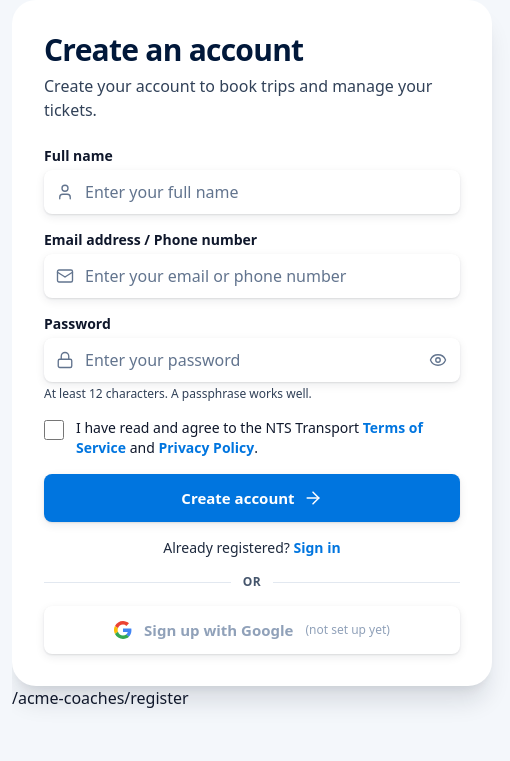
Test: Sign up with a phone number › refuses a phone number on the form when the server cannot send texts
Type "076 123 456" into the field labelled "Email address / Phone number" at point(252, 276), box [44,254,460,298]
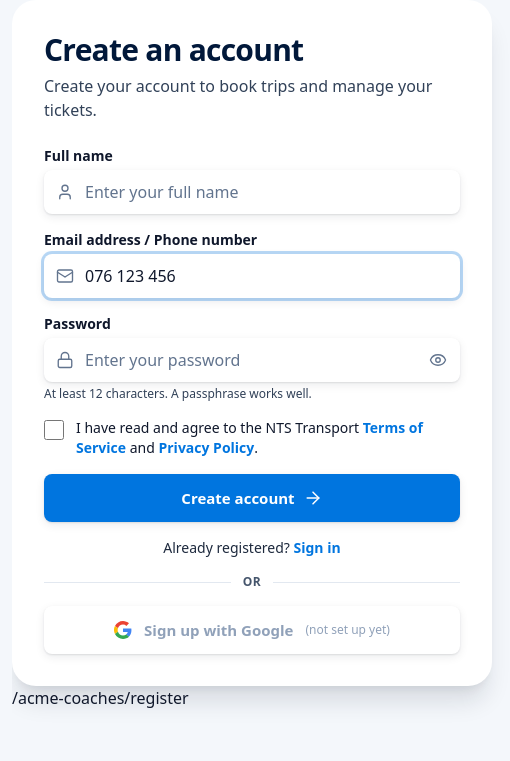
Type "Fanta" into the field labelled "Full name" at point(252, 192), box [44,170,460,214]
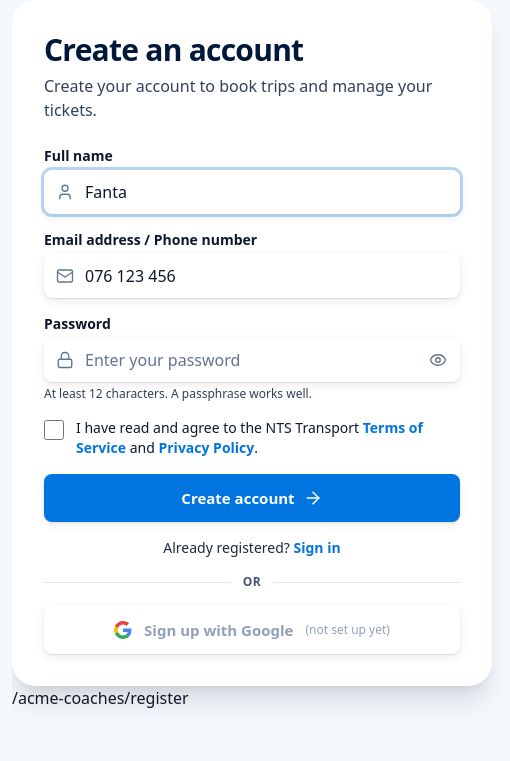
Type "a-long-enough-password" into the password field labelled "Password" at point(252, 360), box [44,338,460,382]
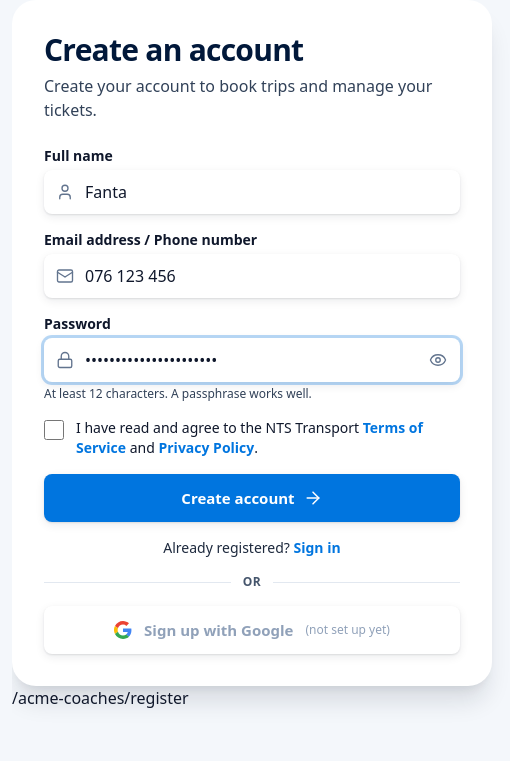
Click the checkbox at point(54, 430), box [44,420,64,440]
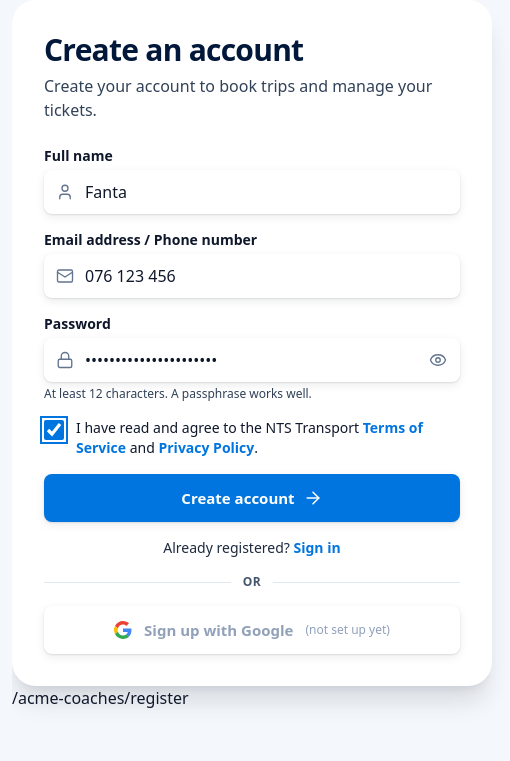
Click the button "Create account" at point(252, 498), box [44,474,460,522]
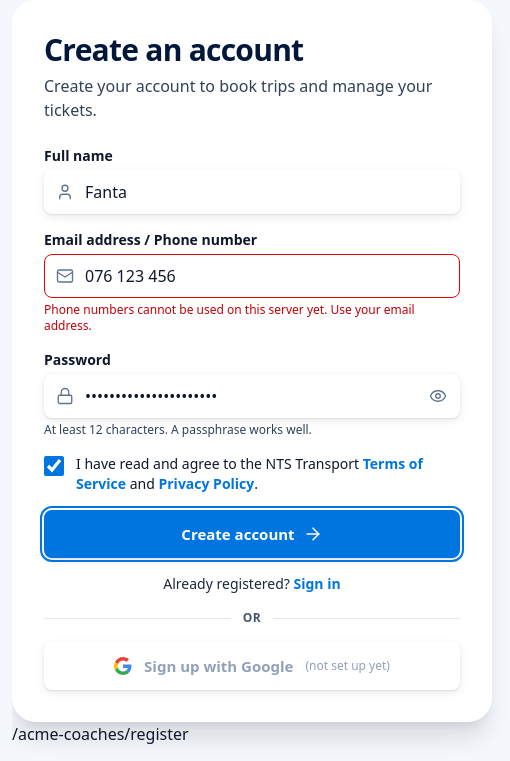
Expected: the text "Phone numbers cannot be used on this server yet. Use your email address." is shown, [44,302,460,334]
